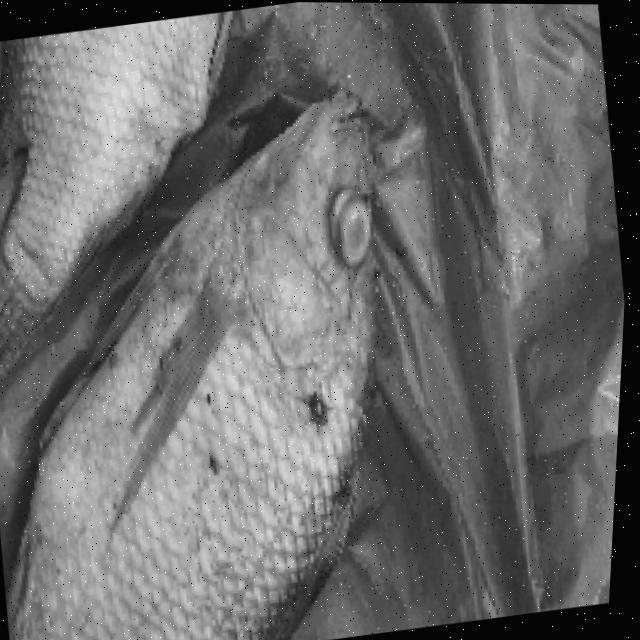Non-Fresh: (71, 87, 467, 640)
